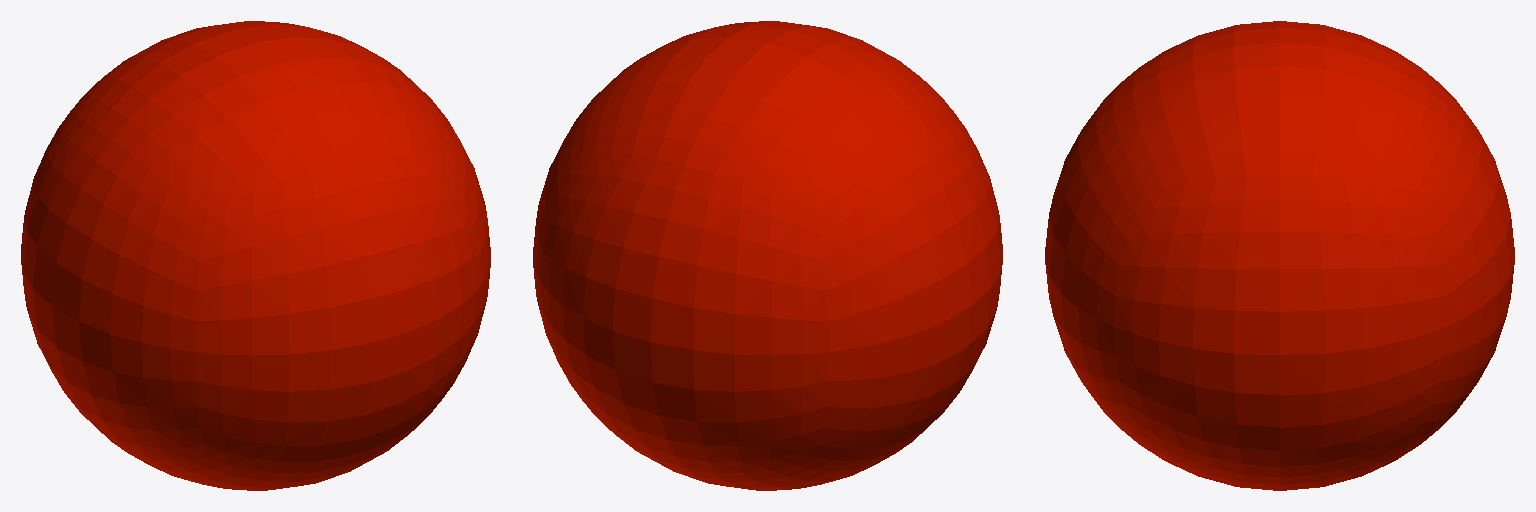
File: explosion_sphere.obj
3 renders of one model, left to right at view 1: azimuth 30°, elevation 25°; view 2: azimuth 150°, elevation 25°; view 3: azimuth 270°, elevation 25°, orthographic.
Size of the model in its own units: 20 by 20 by 20.